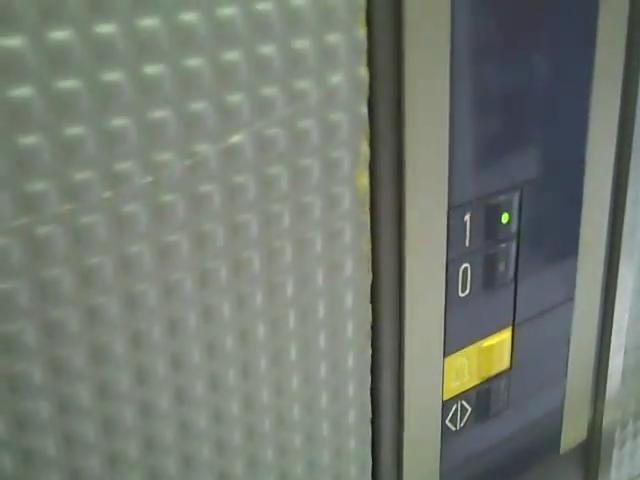0: (441, 235, 521, 309)
1: (443, 183, 524, 257)
alarm: (438, 323, 516, 402)
open: (438, 363, 514, 434)
